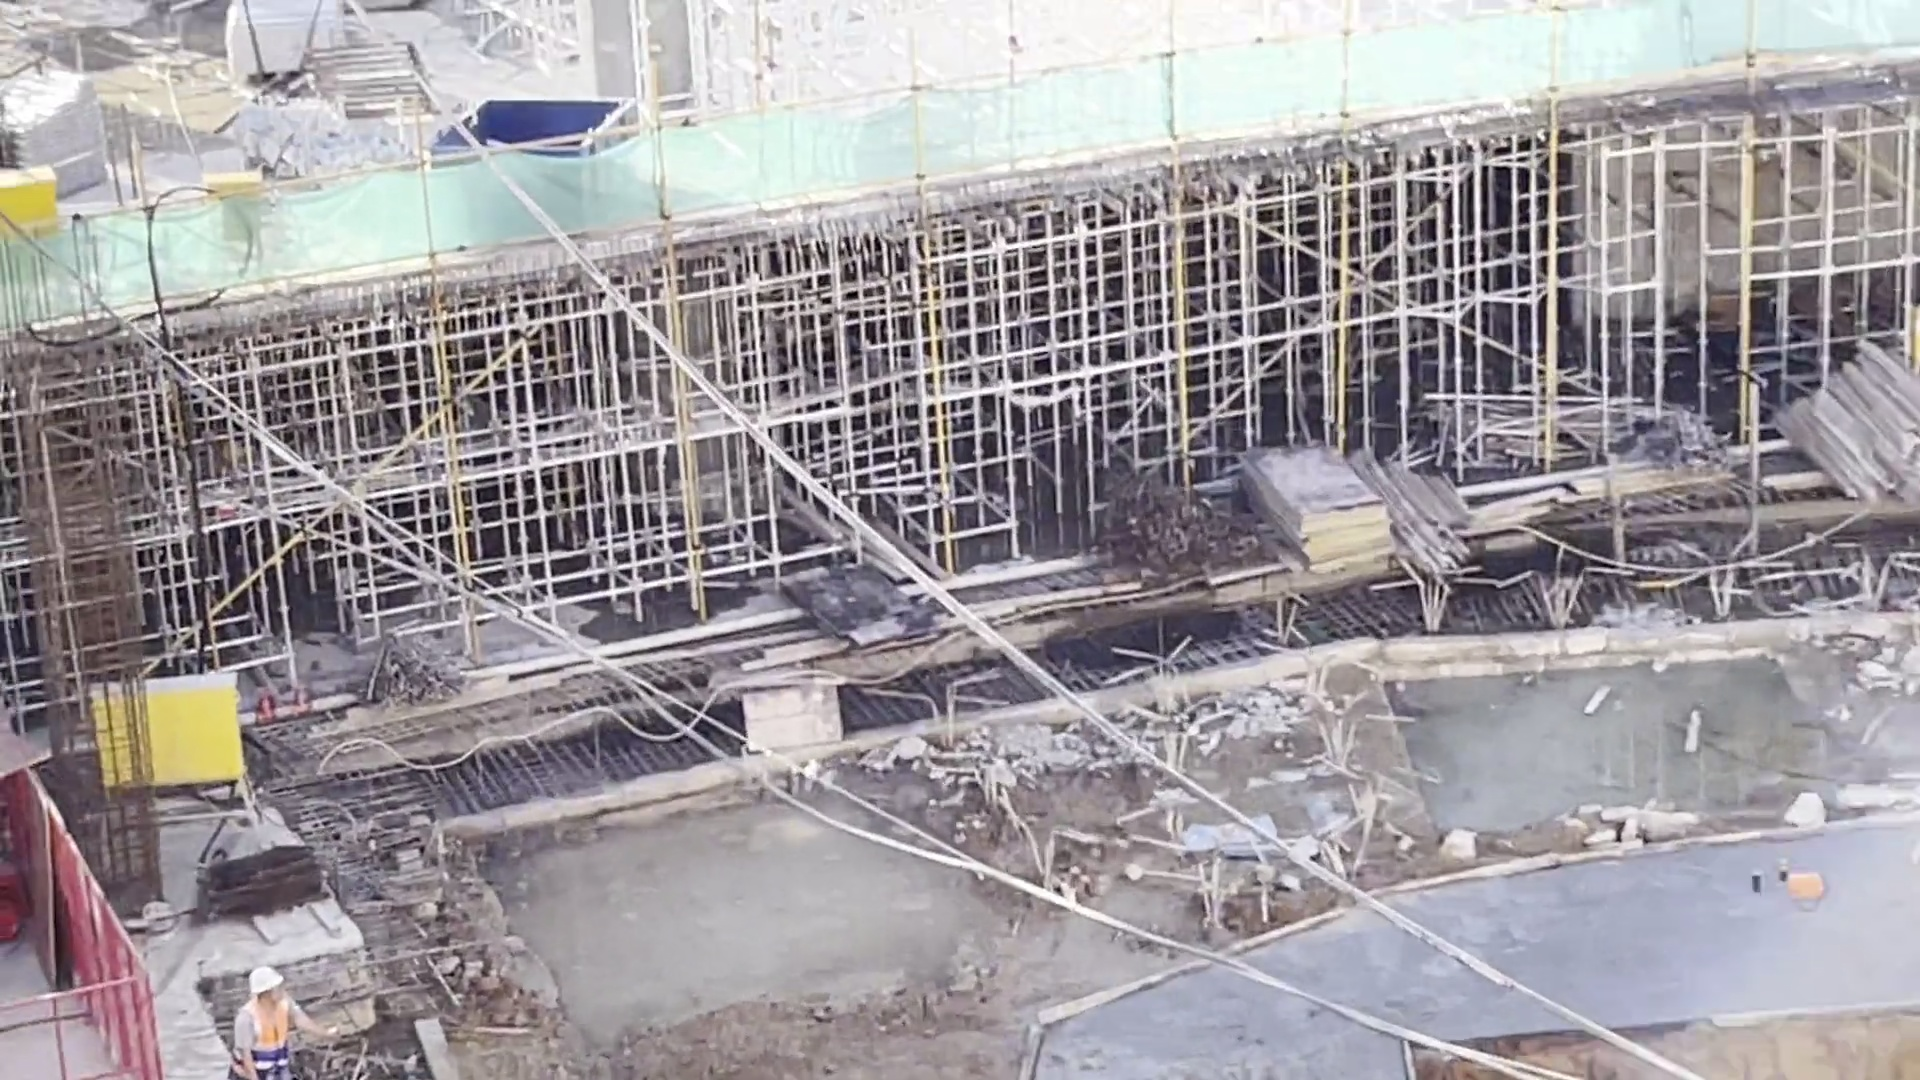board: (1273, 439, 1363, 532)
fence: (1, 769, 168, 1047)
helmet: (251, 956, 286, 997)
hopper: (441, 82, 661, 197)
person: (228, 963, 298, 1080)
scaffold: (6, 57, 113, 202), (233, 1, 336, 84)
vest: (243, 1012, 284, 1059)
wood: (1803, 379, 1920, 507)
